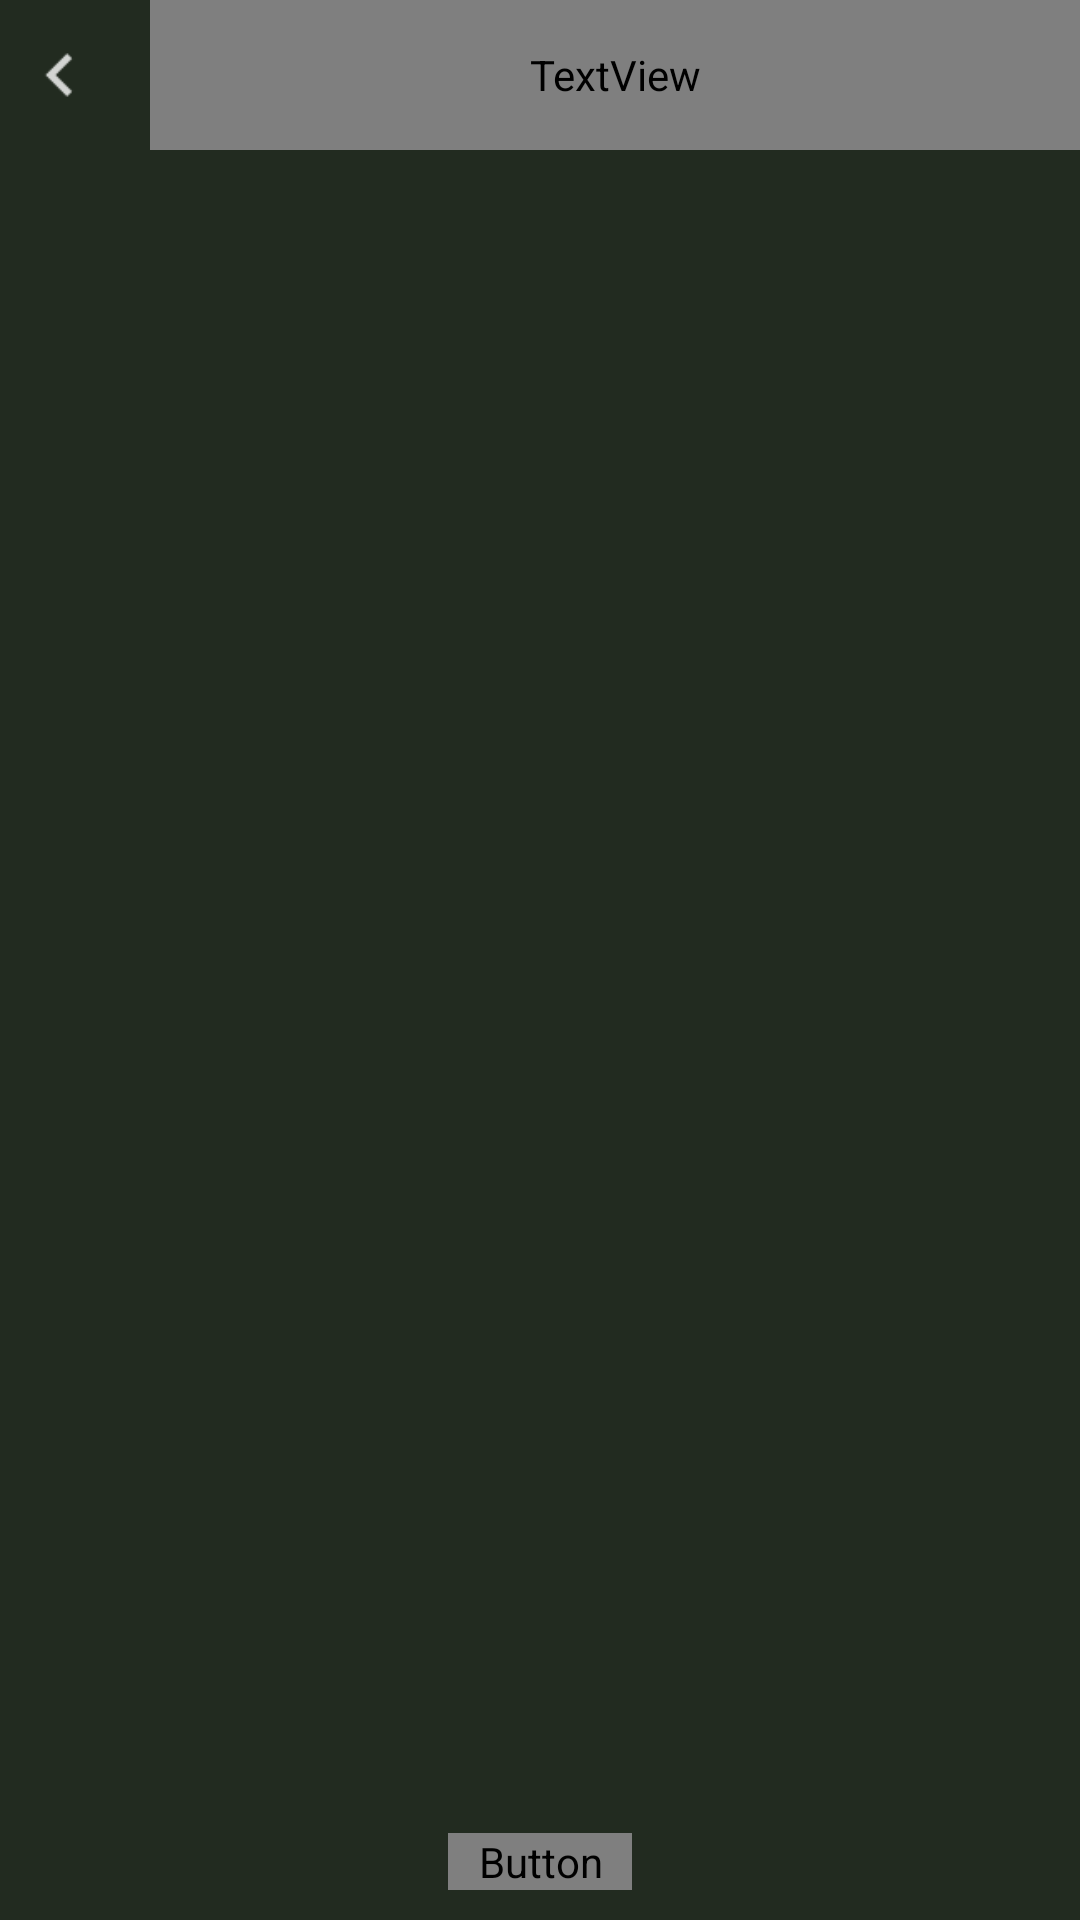

Point at icon controls on the screen. Image size 1080px×1920px, points as [x,y].
back: [58,75]
